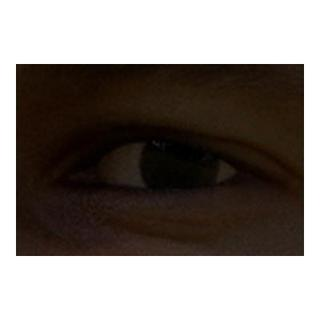pupil: (160, 145, 198, 183)
